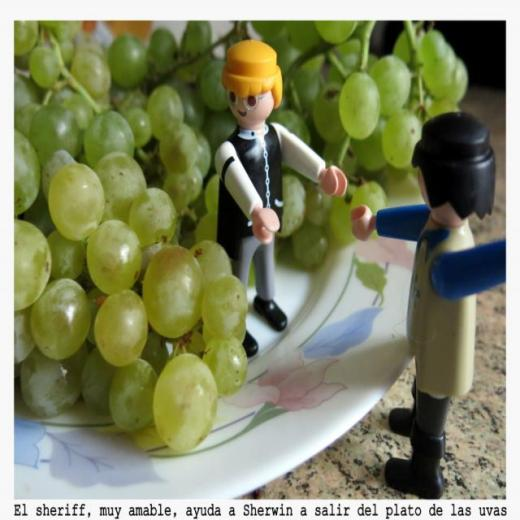Orange: (7, 0, 470, 456)
